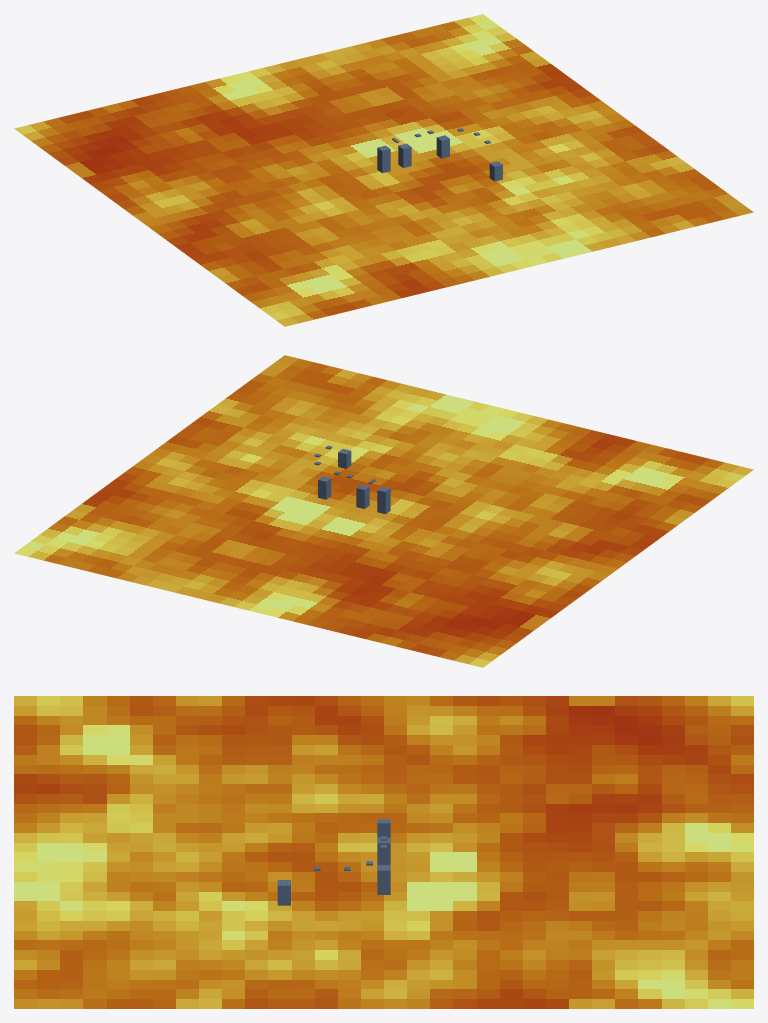
Rendered from Map9.obj.
3 views of the same model, one above another, from view 1: azimuth 30°, elevation 25°; view 2: azimuth 150°, elevation 25°; view 3: azimuth 270°, elevation 25° (orthographic). The views are drawn at different scales.
Bounding box in the file's own units: 888 × 65.1 × 888.
